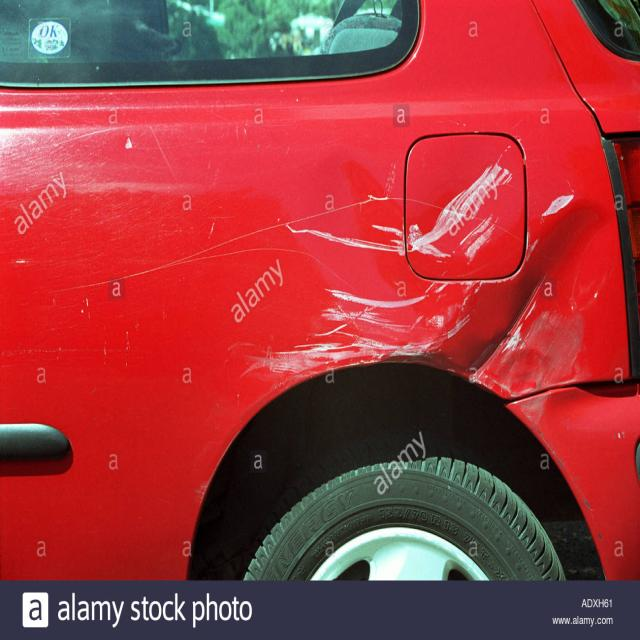Scratch: (276, 163, 514, 264), (260, 280, 486, 379), (537, 191, 571, 217)
